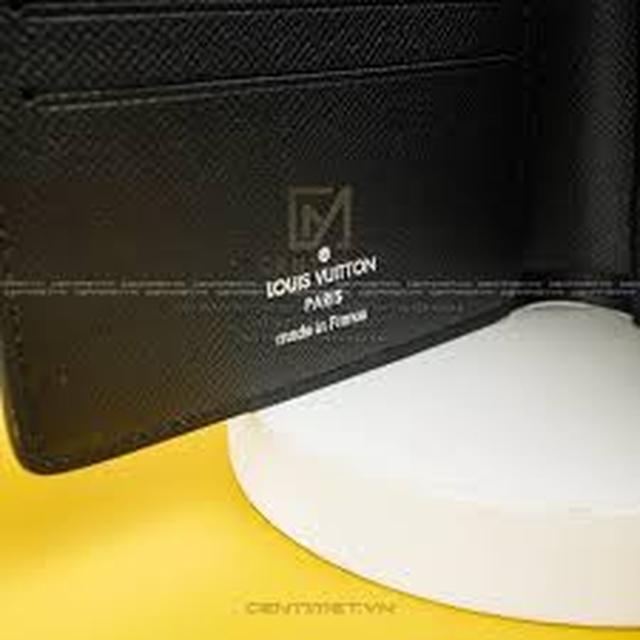wallet: (0, 0, 620, 473)
